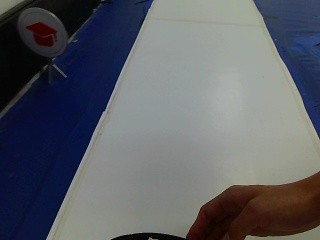school: (13, 4, 64, 60)
